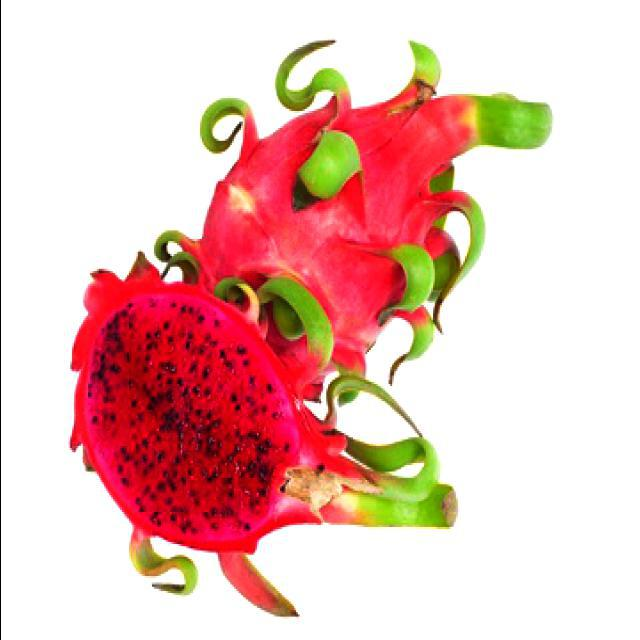do: (66, 248, 456, 622), (177, 42, 557, 414)
